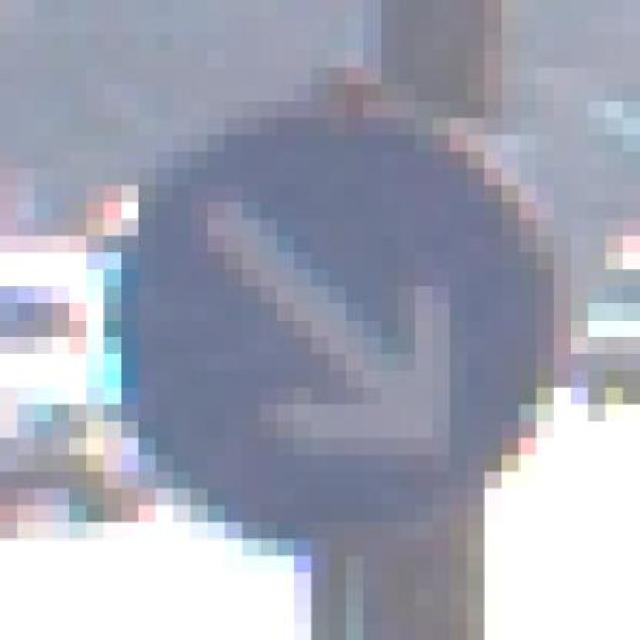Keep-Right: (120, 84, 572, 556)
